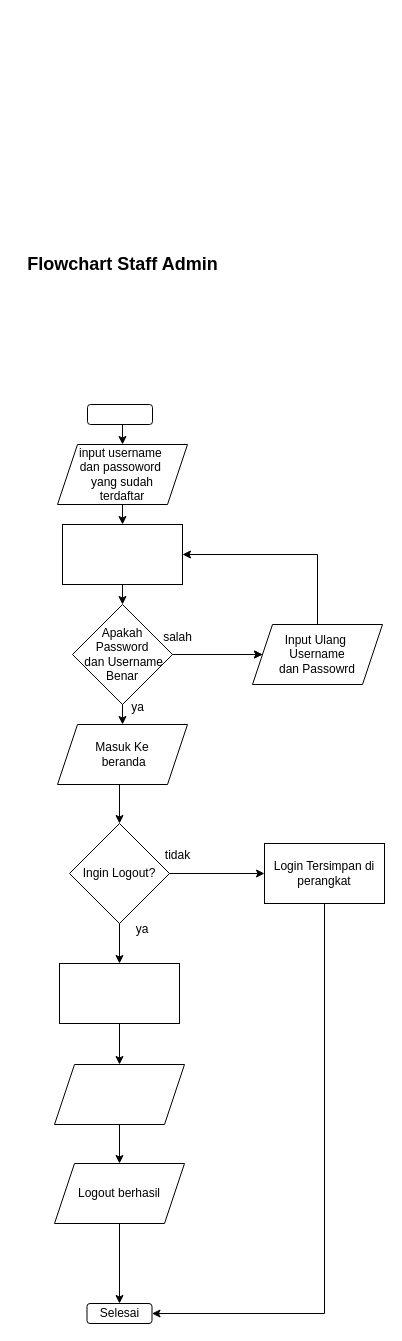
Some shapes in this 402 by 1341 pixel diagram are drawn without their labels. The centre of each missing label's shape, as x and y in pixels:
"Logout akun" goes at point (119, 1094).
"Mulai" goes at point (119, 414).
"Selesai Menggunakan Akun" goes at point (119, 993).
"Sistem Melakukan Validasi" goes at point (122, 554).
